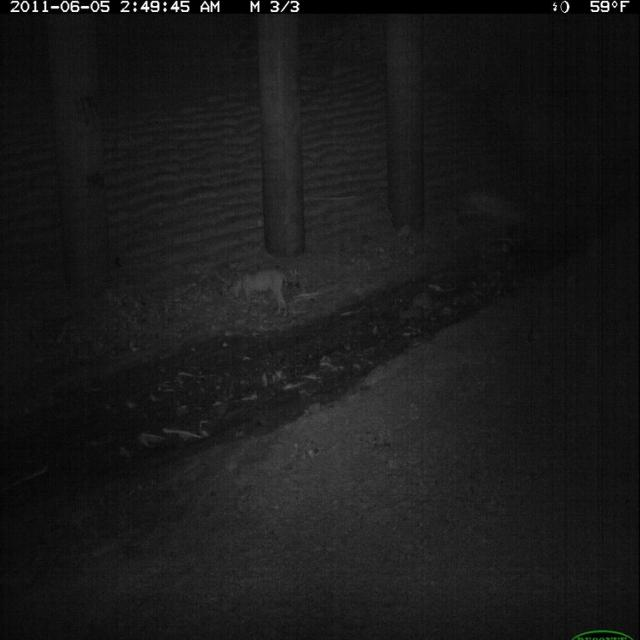bobcat: (229, 265, 293, 323)
